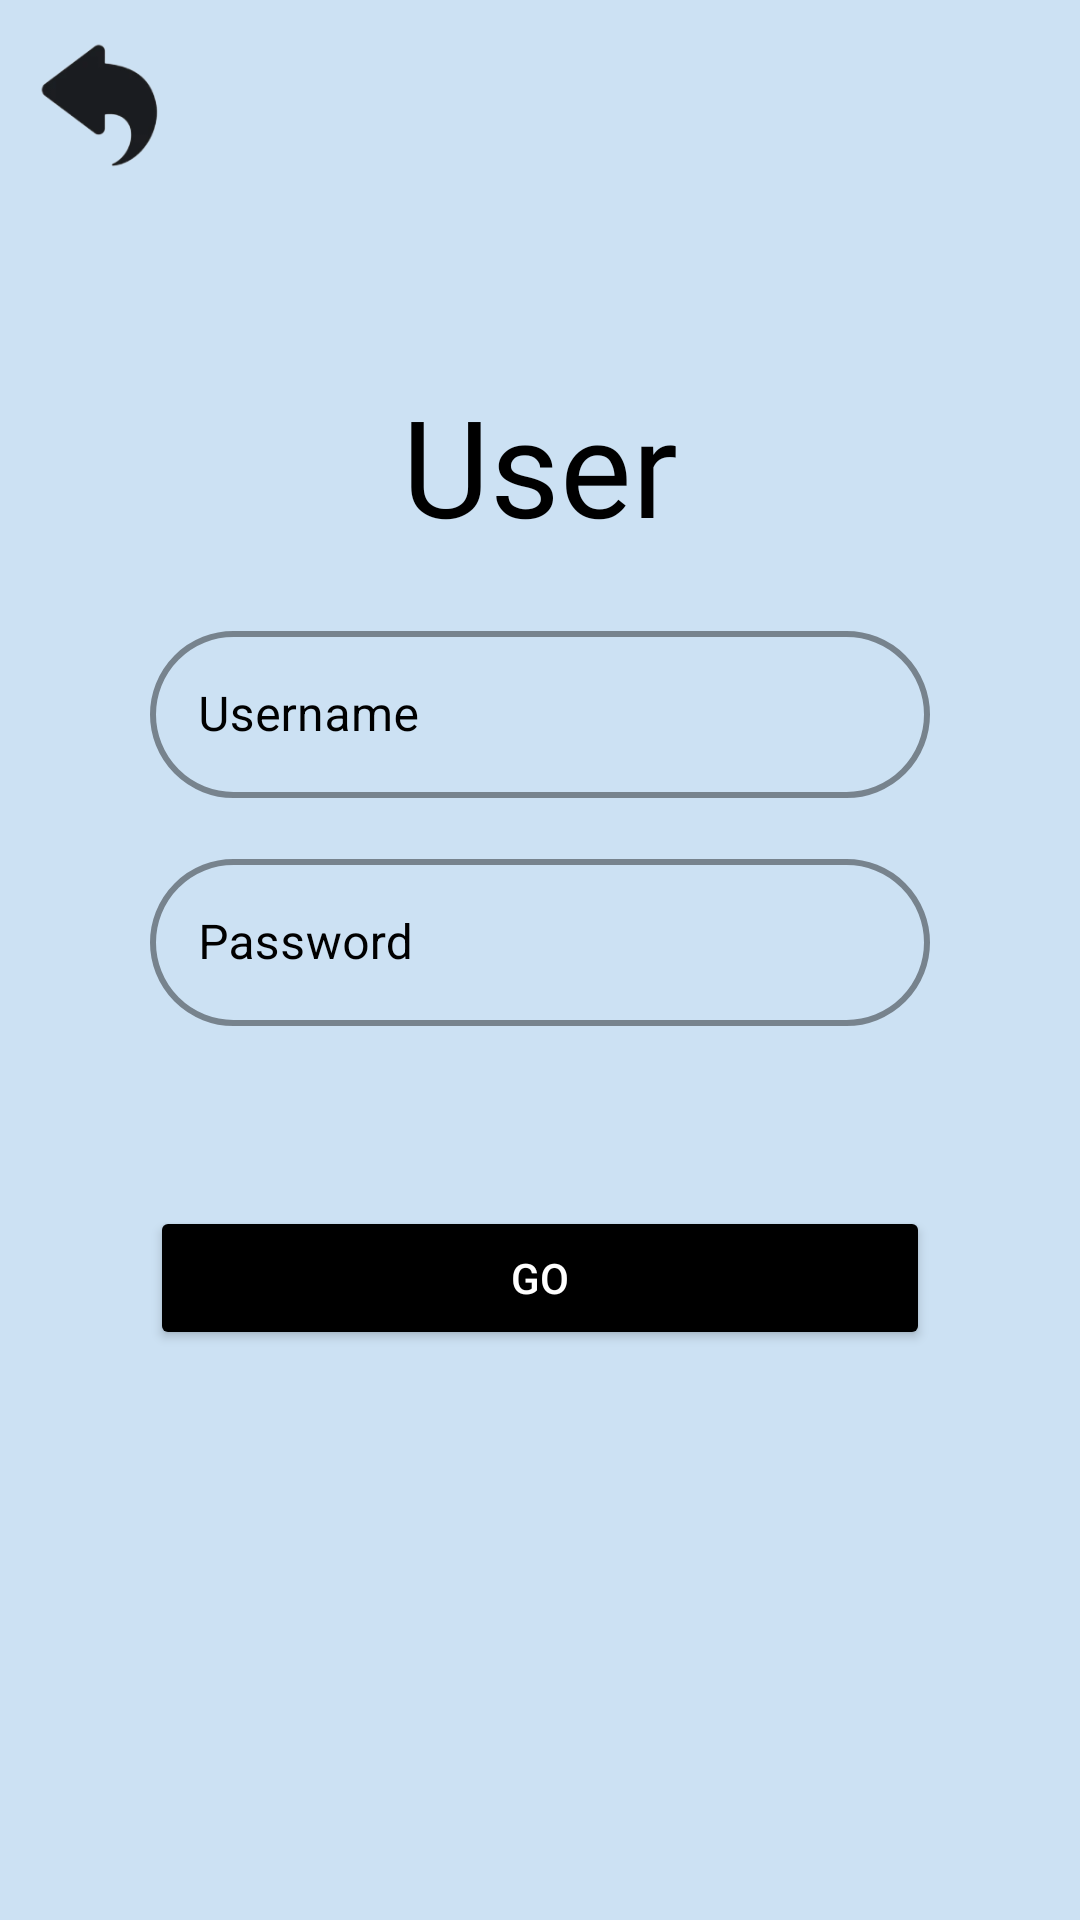

Screen size 1080px x 1920px. Icon name, then its box in pixels as (x1,y1,x2,y2):
backk: (41,44,158,166)
